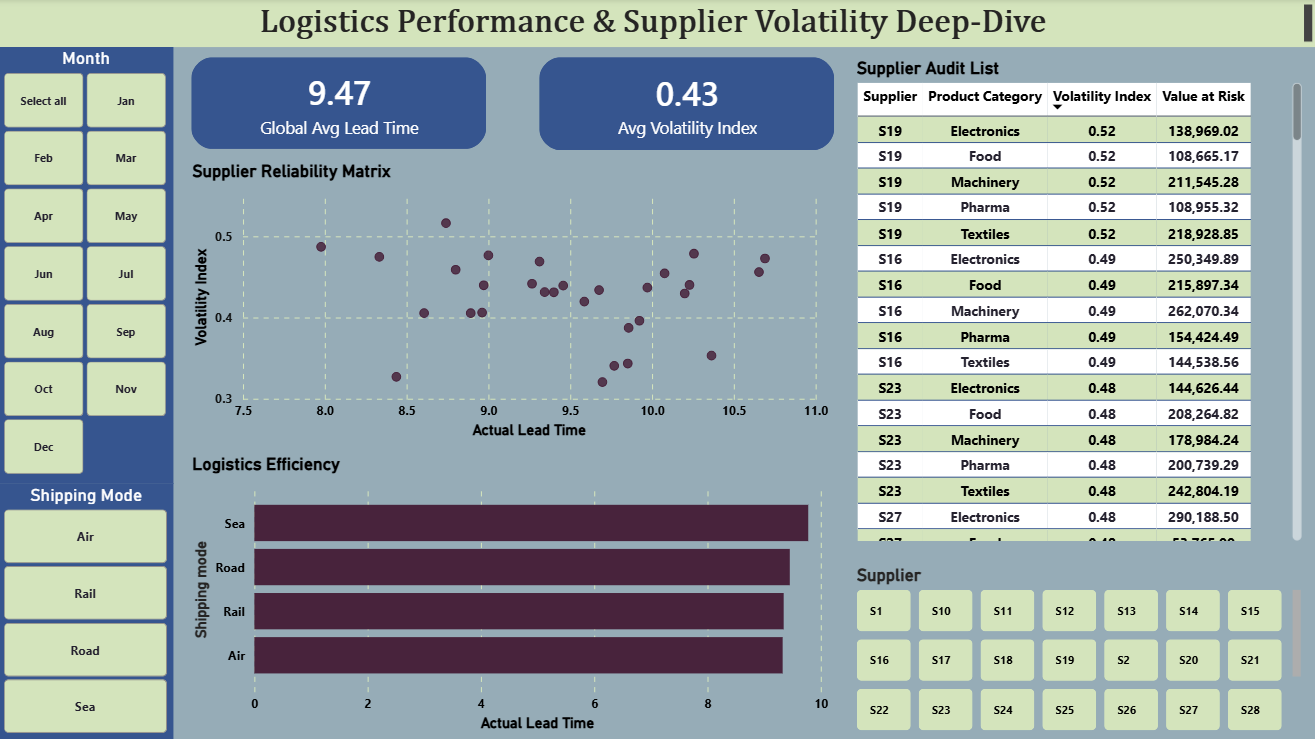

The dashboard page shown, as its layout file describes it:
{"tool":"powerbi","page":{"name":"Operational Supplier Reliability","canvas":[1280,720],"ordinal":1},"visuals":[{"type":"scatterChart","title":"Supplier Reliability Matrix","fields":{"X":["Avg(orders_fact.Actual_Lead_Time)"],"Y":["suppliers_dim.Volatility_Index"]},"box":[183.3,156.7,626.7,273.3],"z":0},{"type":"barChart","title":"Logistics Efficiency","fields":{"Category":["orders_fact.Shipping_mode"],"Y":["Avg(orders_fact.Actual_Lead_Time)"]},"box":[183.3,441.7,626.7,273.3],"z":1000},{"type":"tableEx","title":"Supplier Audit List","fields":{"Values":["orders_fact.Supplier_ID","orders_fact.Product_Category","suppliers_dim.Volatility_Index","Measuretable.Value at Risk"]},"box":[828.3,56.7,441.7,473.3],"z":2000},{"type":"textbox","box":[0,0,1280,46.7],"z":3000},{"type":"advancedSlicerVisual","title":"Month","fields":{"Values":["DateTable.MonthShort"]},"box":[0,46.7,170,423.3],"z":4000},{"type":"advancedSlicerVisual","title":"Shipping Mode","fields":{"Values":["orders_fact.Shipping_mode"]},"box":[0,470,170,250],"z":5000},{"type":"cardVisual","fields":{"Data":["Avg(orders_fact.Actual_Lead_Time)"]},"box":[170,40,320,123.3],"z":6000},{"type":"cardVisual","fields":{"Data":["Avg(suppliers_dim.Volatility_Index)"]},"box":[508,39.4,320,124.6],"z":7000},{"type":"advancedSlicerVisual","fields":{"Values":["orders_fact.Supplier_ID"]},"box":[828.3,548.3,441.7,166.7],"z":8000}]}

Visuals, with their boxes in screenshot pixels (x1, y1, x2, y2), scaled from the page's 1280x720 canvas onto the 1315x739 screenshot:
"Supplier Reliability Matrix" scatterChart: x1=188 y1=161 x2=832 y2=441
"Logistics Efficiency" barChart: x1=188 y1=453 x2=832 y2=734
"Supplier Audit List" tableEx: x1=851 y1=58 x2=1305 y2=544
textbox: x1=0 y1=0 x2=1314 y2=48
"Month" advancedSlicerVisual: x1=0 y1=48 x2=175 y2=482
"Shipping Mode" advancedSlicerVisual: x1=0 y1=482 x2=175 y2=738
cardVisual - Avg(orders_fact.Actual_Lead_Time): x1=175 y1=41 x2=503 y2=168
cardVisual - Avg(suppliers_dim.Volatility_Index): x1=522 y1=40 x2=851 y2=168
advancedSlicerVisual - orders_fact.Supplier_ID: x1=851 y1=563 x2=1305 y2=734
